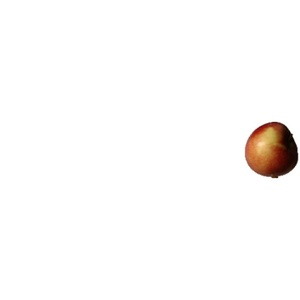maçã braeburn: (247, 121, 298, 181)
